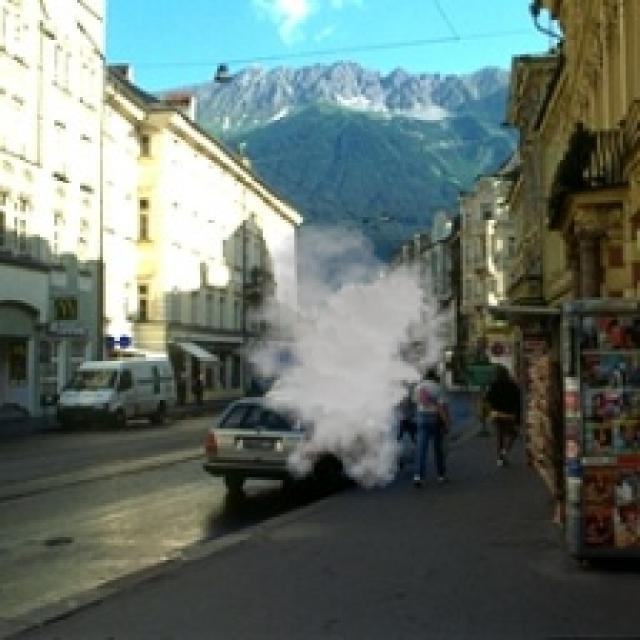Smoke: (220, 219, 457, 492)
